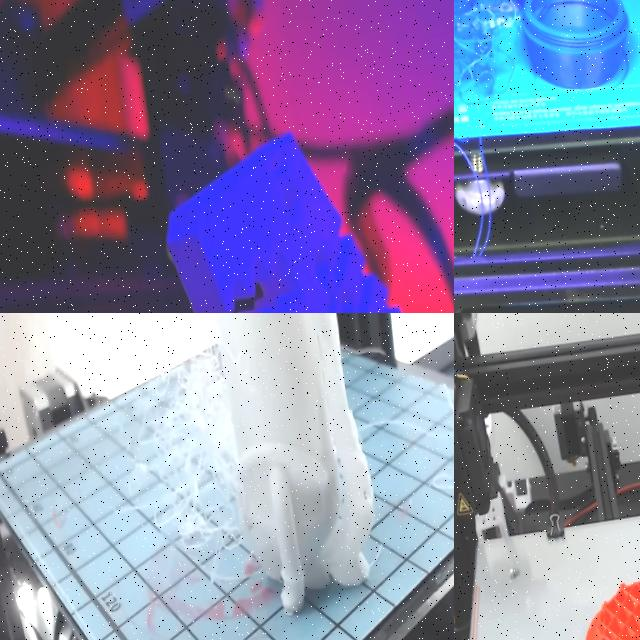spaghetti: (80, 313, 265, 606), (339, 326, 454, 514)
